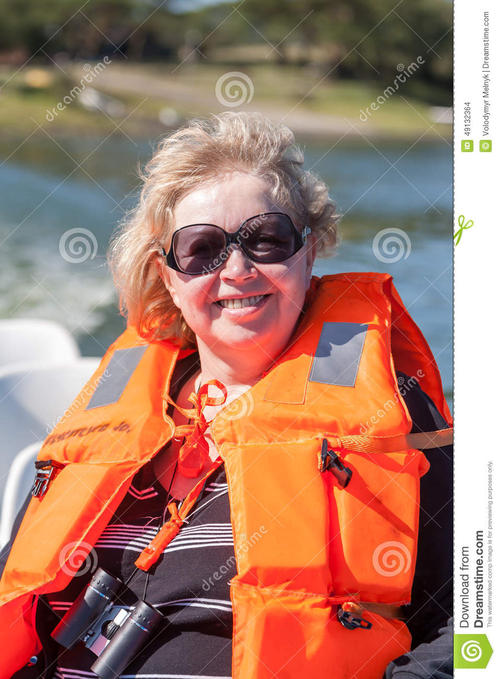reflective_clothes: (4, 259, 447, 679)
